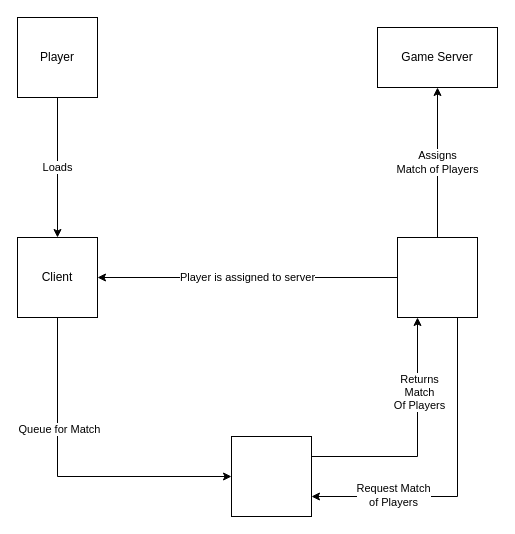
Image size: 515x534. Some labels were removed from this diagram. Here are the shapes that lost their labels. From the top down, the box of each, then its label:
(396, 236, 478, 318): Director
(230, 436, 312, 516): Matchmaker
